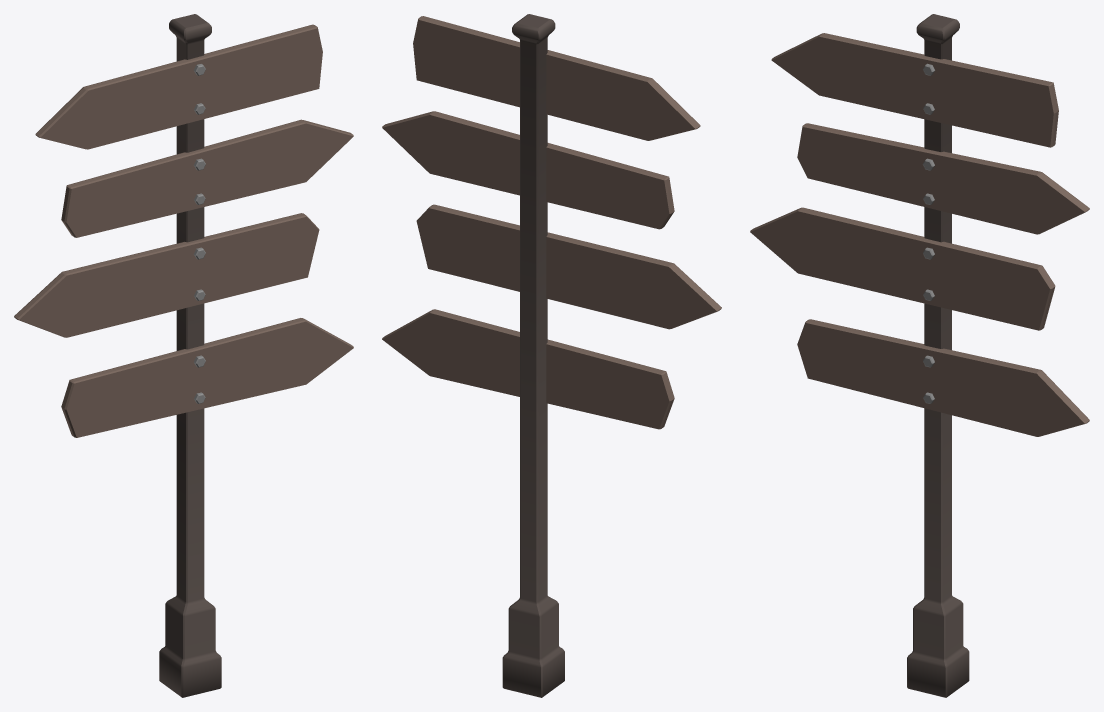
File: props_74.glb
3 views of the same model, side by side, from view 1: azimuth 30°, elevation 25°; view 2: azimuth 150°, elevation 25°; view 3: azimuth 330°, elevation 25° (orthographic).
Parts seen in each view (by area): view 1: props_74; view 2: props_74; view 3: props_74.
Boxes of the visible parts, box(x1,y1,x2,y2) form: props_74: box(14, 14, 353, 697); props_74: box(382, 14, 721, 697); props_74: box(750, 14, 1089, 697).
Bounding box in the file's own units: 1.48 × 2.79 × 0.1777.
1 material, 1 textured.
